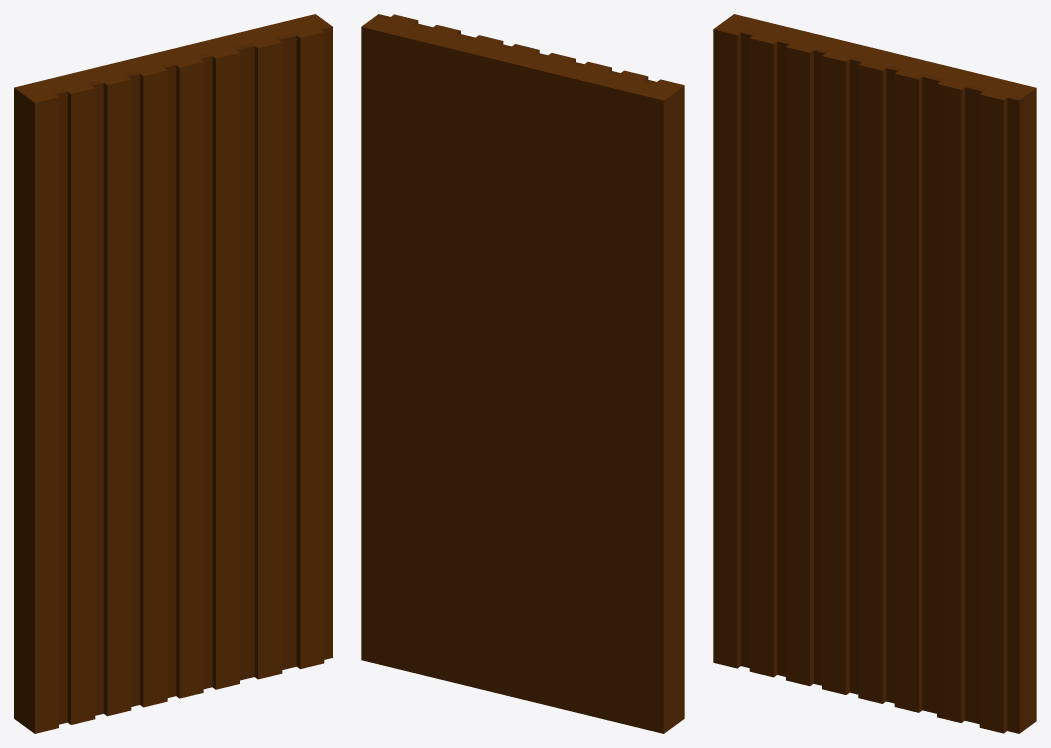
File: Wall_Half_Right.obj
3 views of the same model, side by side, from view 1: azimuth 30°, elevation 25°; view 2: azimuth 150°, elevation 25°; view 3: azimuth 330°, elevation 25° (orthographic).
Bounding box in the file's own units: 5 × 10 × 0.6.
Materials: 1 (1 with a texture image).
